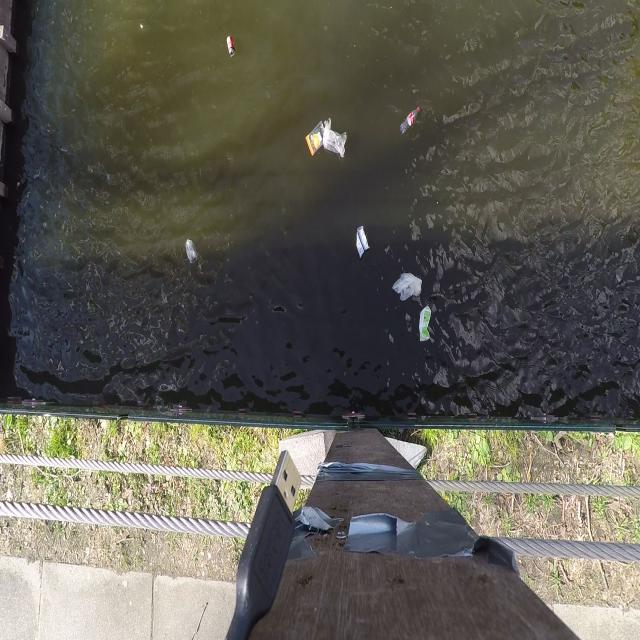Autre plastique: (305, 114, 326, 163), (352, 219, 373, 262)
Bouteille plastique: (396, 101, 425, 138)
Non plastique: (417, 306, 439, 352), (225, 31, 238, 61)
Sac plastique: (388, 263, 428, 308), (323, 116, 350, 157), (183, 237, 203, 273)
